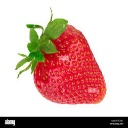strawberry: (22, 12, 114, 107)
